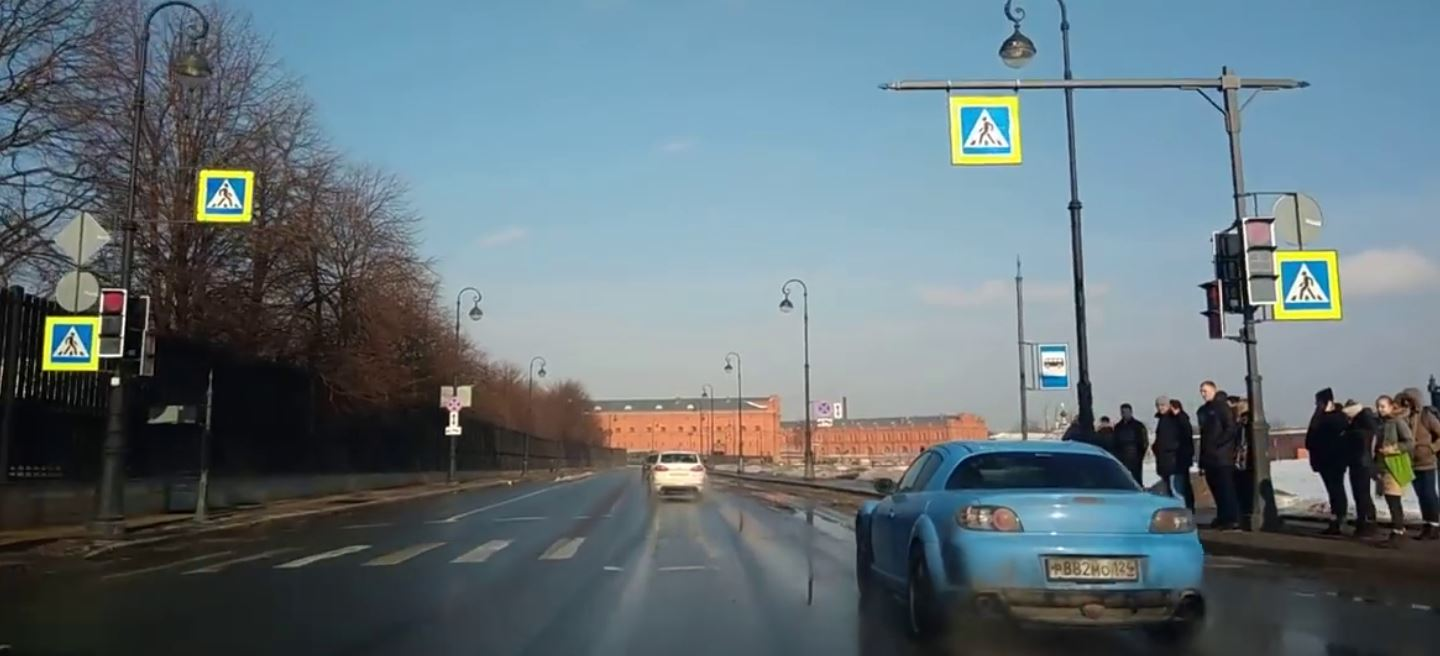Yaya Gecidi: (964, 111, 1019, 155), (1285, 259, 1332, 310), (52, 325, 93, 364), (208, 178, 249, 214)
